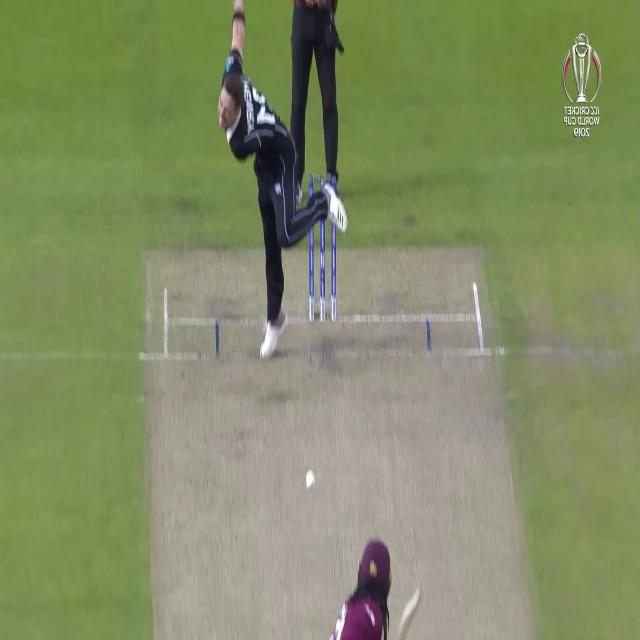ball: (298, 463, 320, 499)
